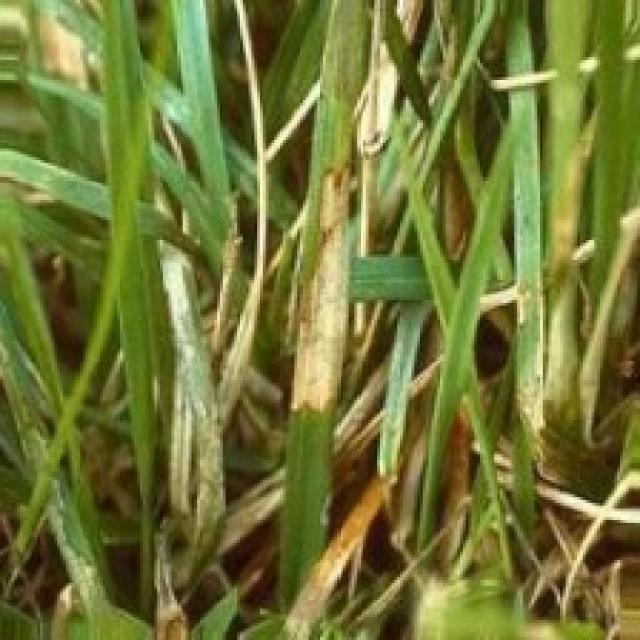Bacterial_Blight: (278, 156, 359, 420)
